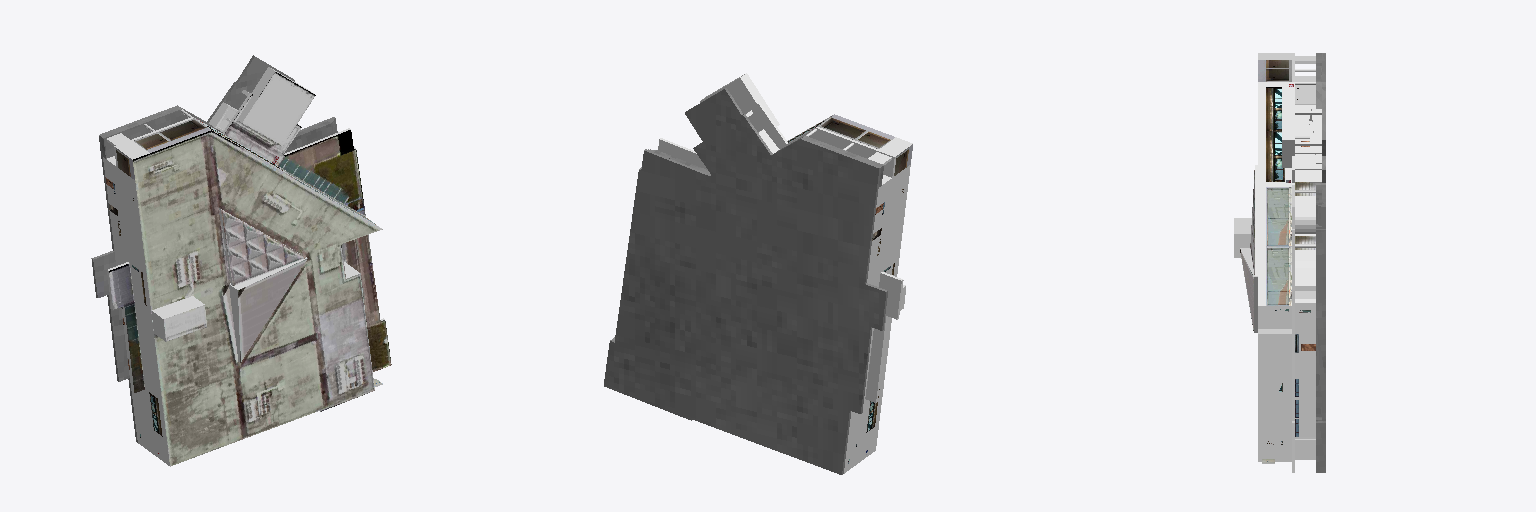
The picture shows the model from 3 angles: view 1: azimuth 30°, elevation 25°; view 2: azimuth 150°, elevation 25°; view 3: azimuth 270°, elevation 25°; orthographic projection.
Parts seen in each view (by area): view 1: polygon.866; view 2: polygon.866; view 3: polygon.866.
Part boxes in pixels (x1,y1,x2,y2): polygon.866: (91, 55, 391, 466); polygon.866: (604, 73, 912, 474); polygon.866: (1234, 53, 1325, 472).
Size of the model in its own units: 45.34 by 54.78 by 12.77.
1 materials, 1 textured.